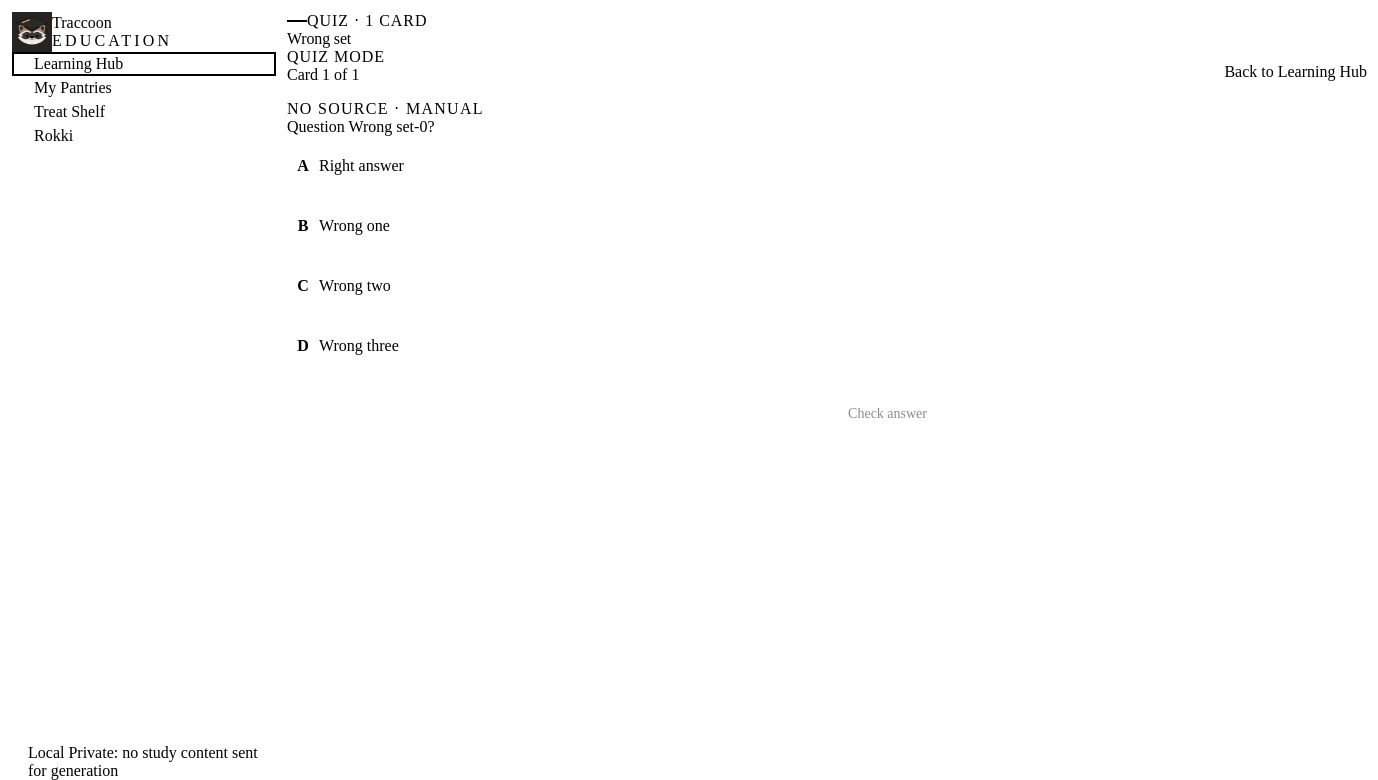
Test: Learning Hub quiz › finds no ingredient for a wrong answer
This screenshot has width=1378, height=780.
What coordinates should you click on to do the following:
click the button "B Wrong one"
I would click on:
 (354, 226)
Its box is [287,196,927,256].
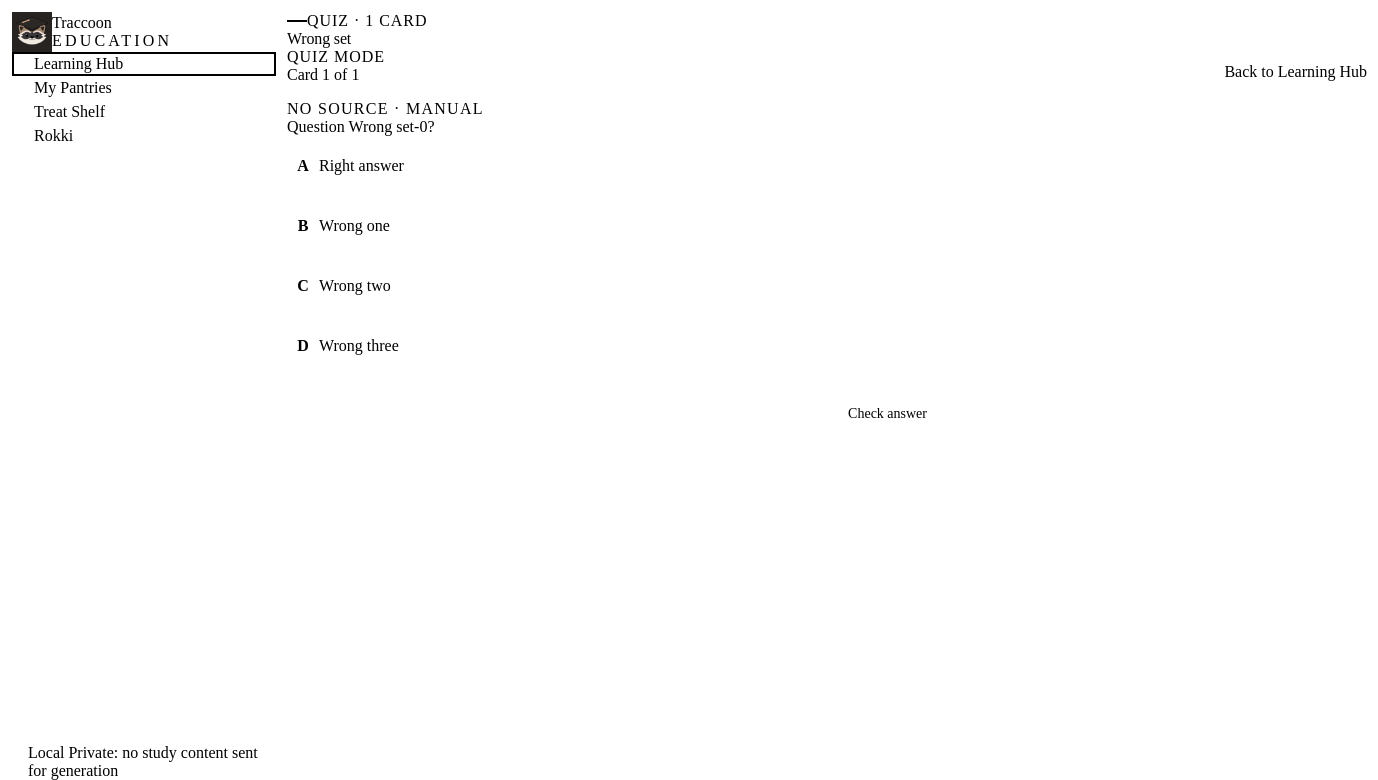
What coordinates should you click on to do the following:
click the button "Check answer"
I would click on:
 (888, 414)
Its box is [848,392,927,436].
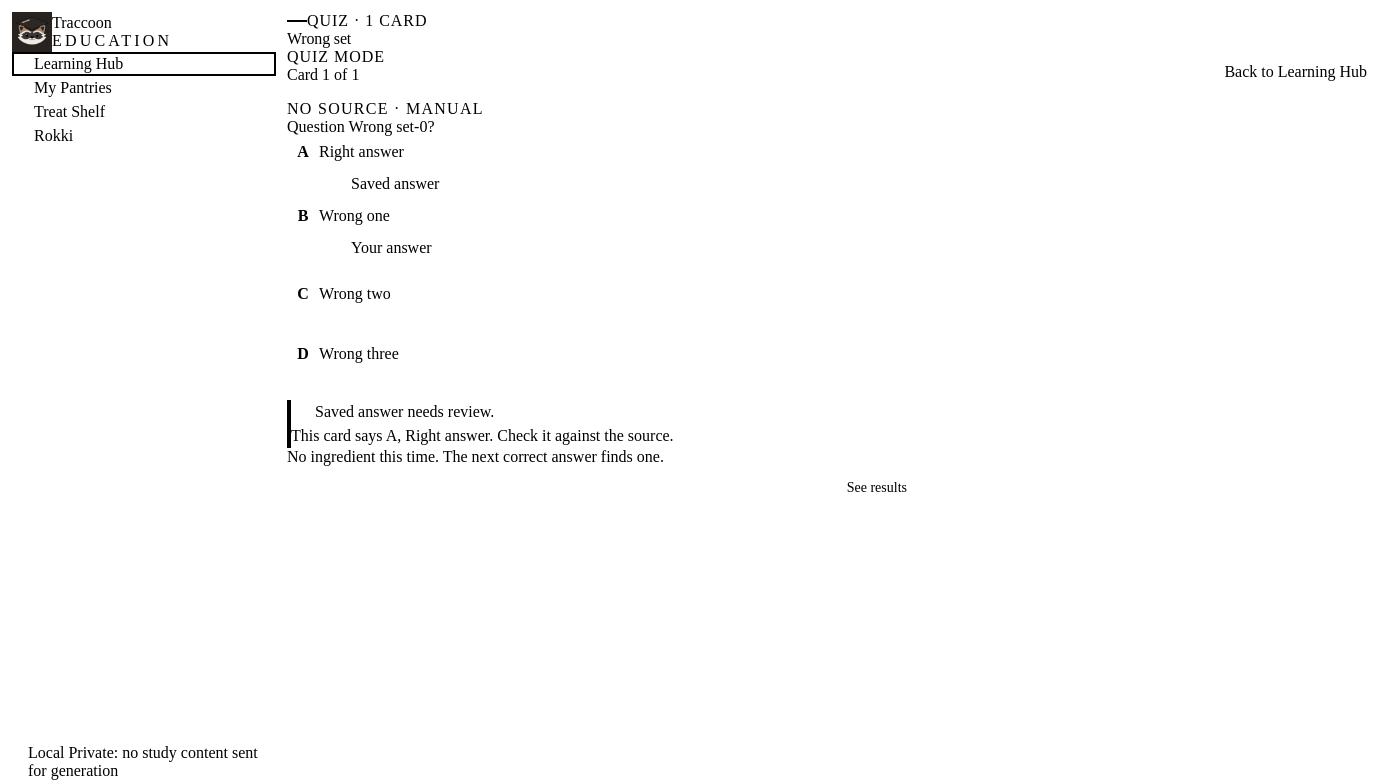
Expected: the text "No ingredient this time. The next correct answer finds one." is shown, [287,448,664,466]
